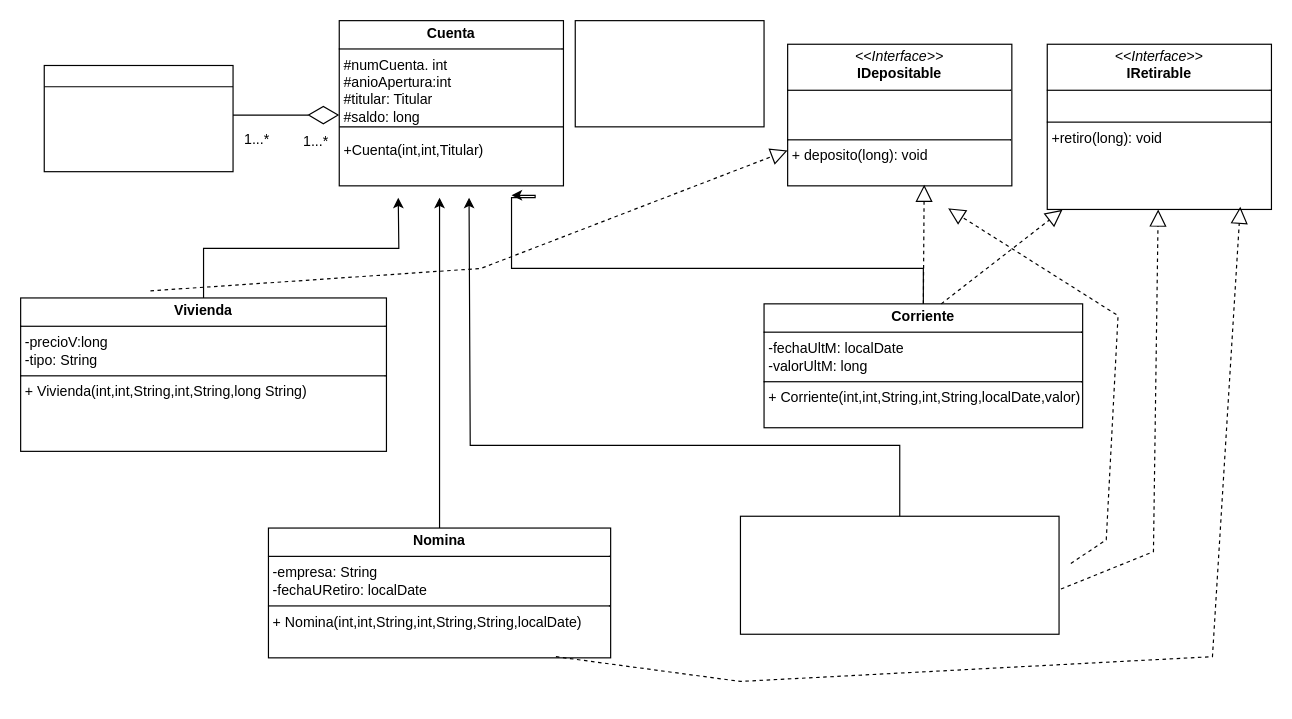
Some shapes in this 1292 by 719 pixel diagram are drawn without their labels. Each missing label, with the centre of its shape:
"Ahorro -interesA: double + Ahorro( int,int,String,int,String,double)" goes at point 899,574.
"AppBanco + main()" goes at point 669,73.
"Titular -nombreT:String -idTi: int -correoT:String" goes at point 138,118.
